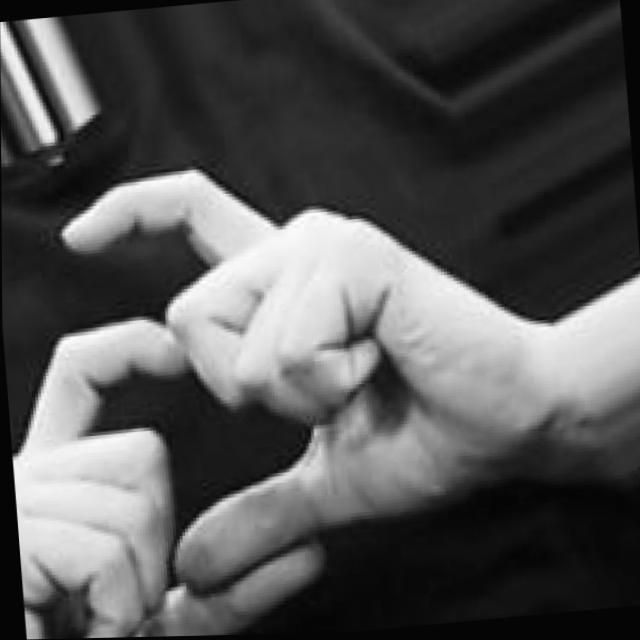G: (1, 125, 640, 640)
